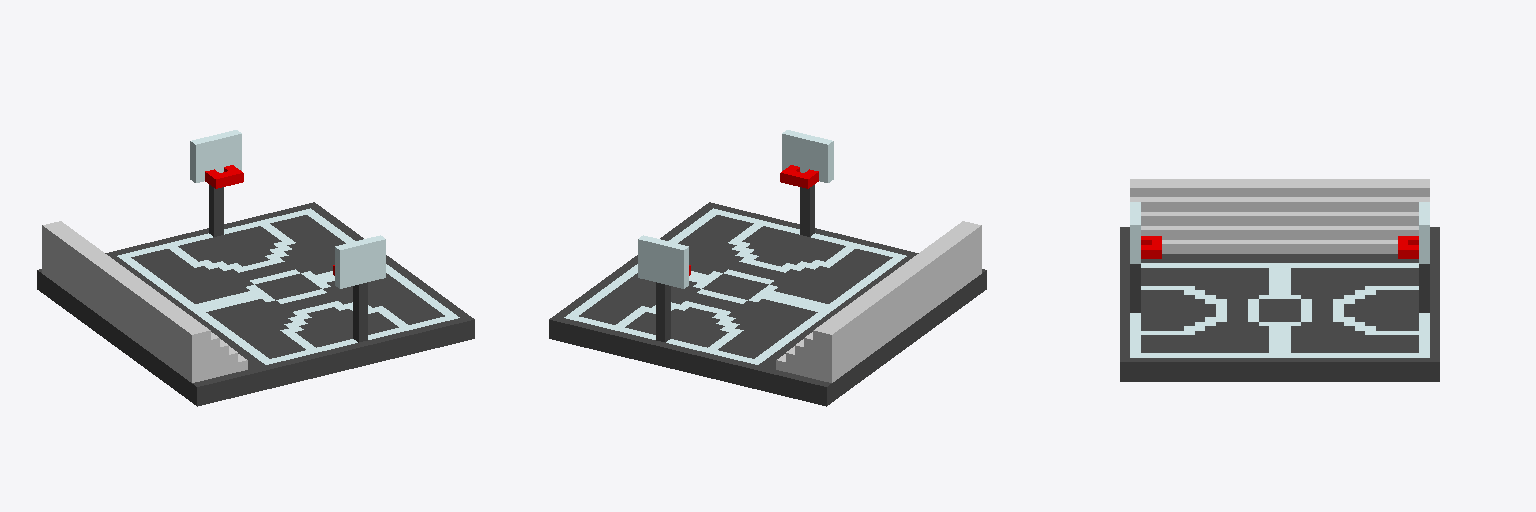
The picture shows the model from 3 angles: view 1: azimuth 30°, elevation 25°; view 2: azimuth 150°, elevation 25°; view 3: azimuth 270°, elevation 25°; orthographic projection.
Size of the model in its own units: 30 by 12 by 30.
Materials: 1 (1 with a texture image).